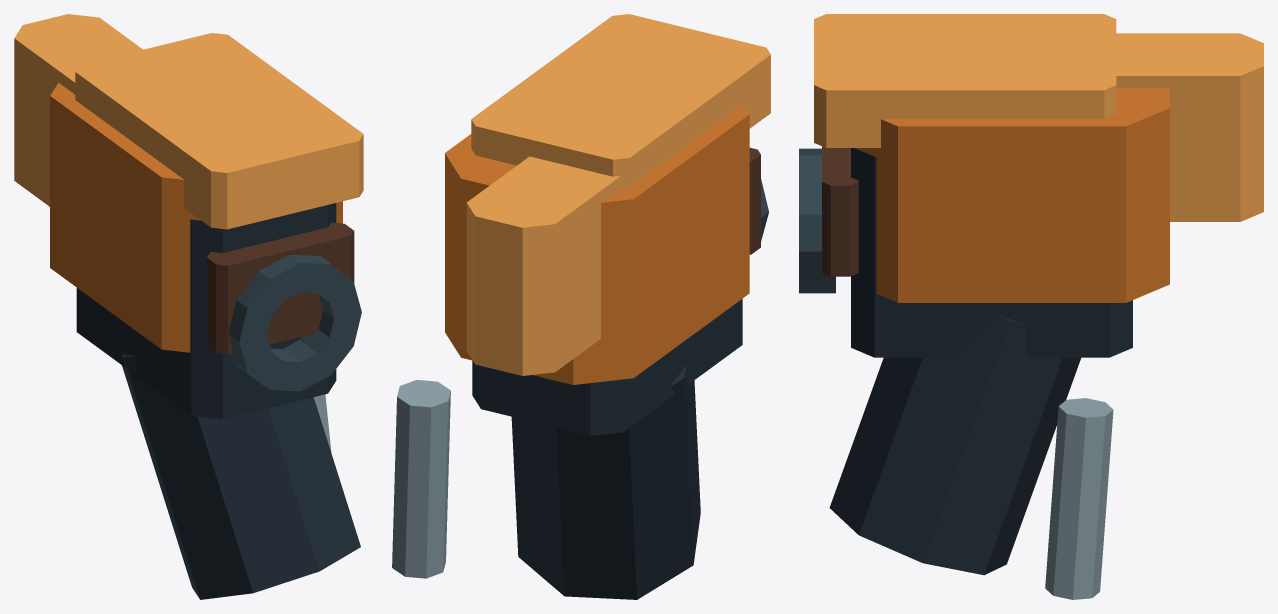
Rendered from enemy_runner_upper_arm_r.obj.
3 views of the same model, side by side, from view 1: azimuth 30°, elevation 25°; view 2: azimuth 150°, elevation 25°; view 3: azimuth 270°, elevation 25° (orthographic). The views are drawn at different scales.
Bounding box in the file's own units: 0.4509 × 0.8144 × 0.6925.
